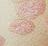plaque psoriasis: (6, 0, 44, 35), (0, 32, 47, 46), (0, 0, 7, 25)
